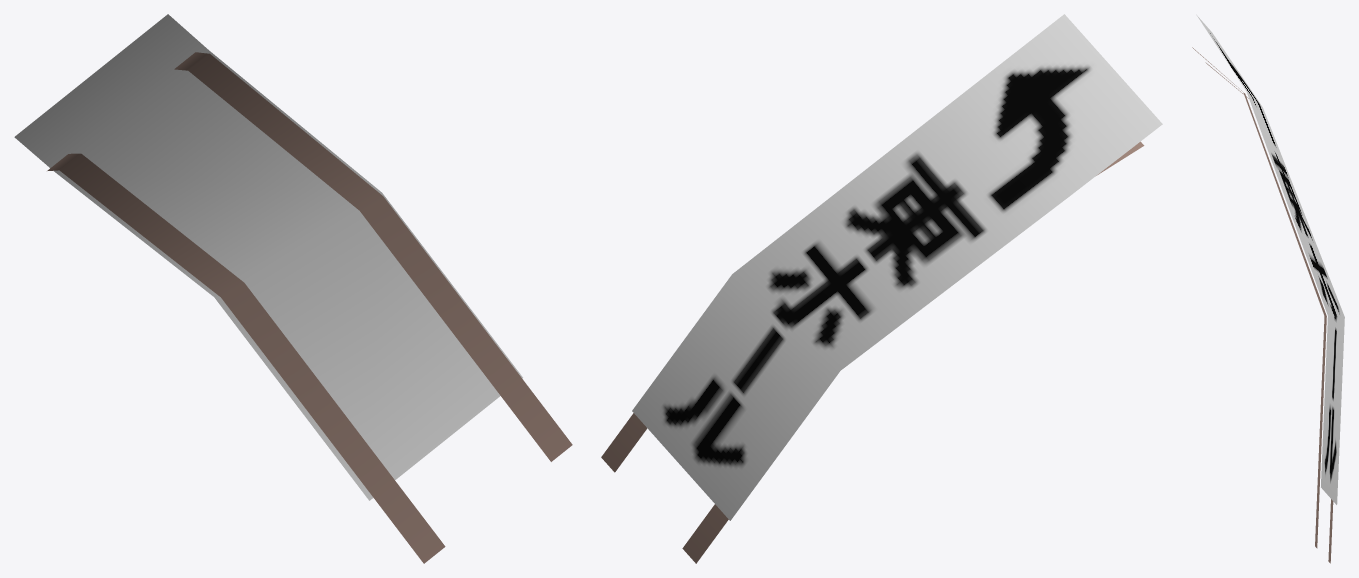
File: TO_HIGASHI.glb
3 views of the same model, side by side, from view 1: azimuth 30°, elevation 25°; view 2: azimuth 150°, elevation 25°; view 3: azimuth 270°, elevation 25° (orthographic). The views are drawn at different scales.
Parts seen in each view (by area): view 1: FRAME_ROOT; view 2: FRAME_ROOT; view 3: FRAME_ROOT.
Boxes of the visible parts, x1,y1,x2,y2 form: FRAME_ROOT: [14, 14, 572, 563]; FRAME_ROOT: [601, 14, 1162, 563]; FRAME_ROOT: [1192, 14, 1344, 563].
Size of the model in its own units: 3.76 by 4.03 by 1.27.
Materials: 2 (2 with a texture image).
